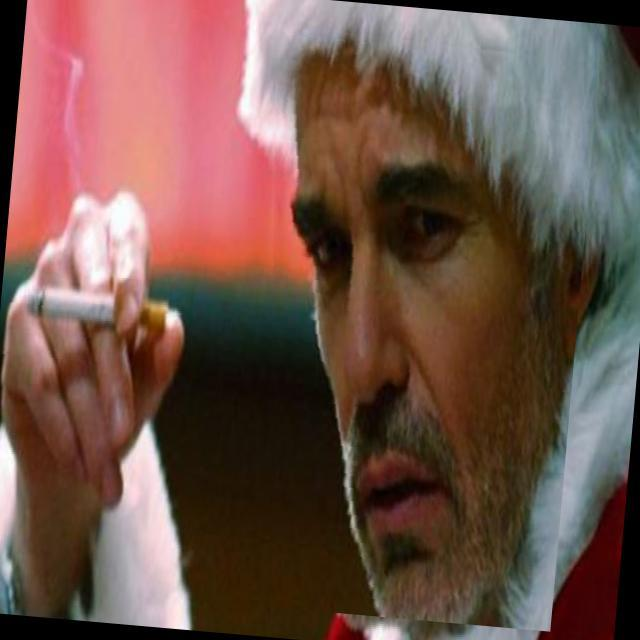cigarette: (1, 268, 195, 370)
